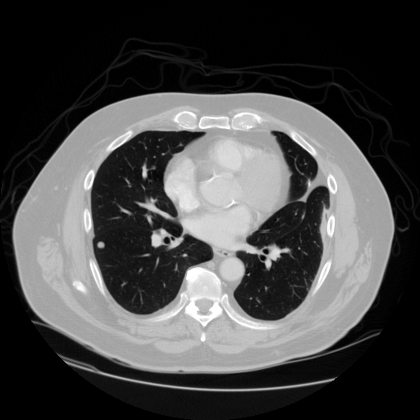nodule: (96, 241, 104, 249)
